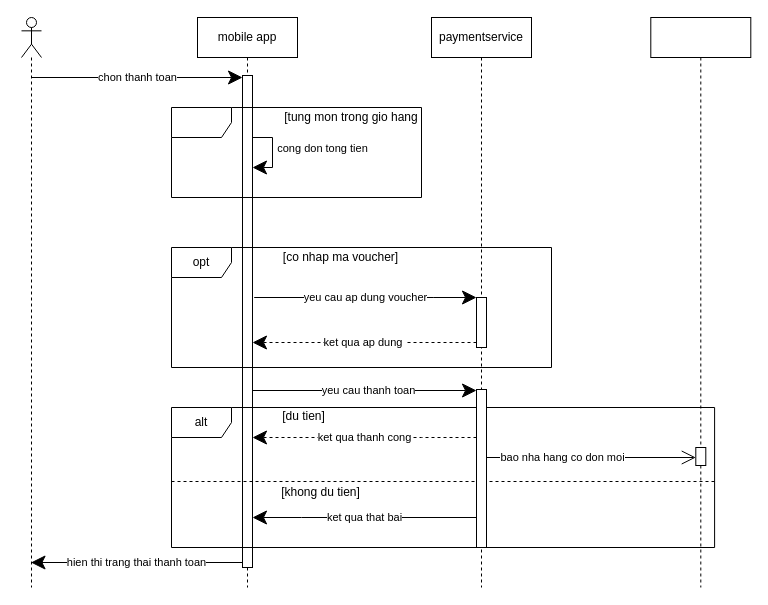
Image size: 768x605. Some labels were removed from this diagram. Here are the shapes that lost their labels. From the top down, the box of each, then its label:
(170, 106, 422, 198): loop
(650, 16, 751, 588): notificationservice
